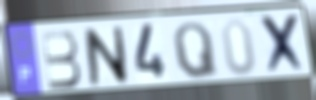0: (220, 17, 257, 78)
4: (134, 21, 172, 86)
B: (39, 28, 84, 92)
N: (82, 24, 130, 88)
Q: (171, 20, 221, 81)
X: (258, 11, 308, 77)
